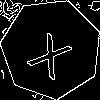X: (26, 24, 79, 80)
